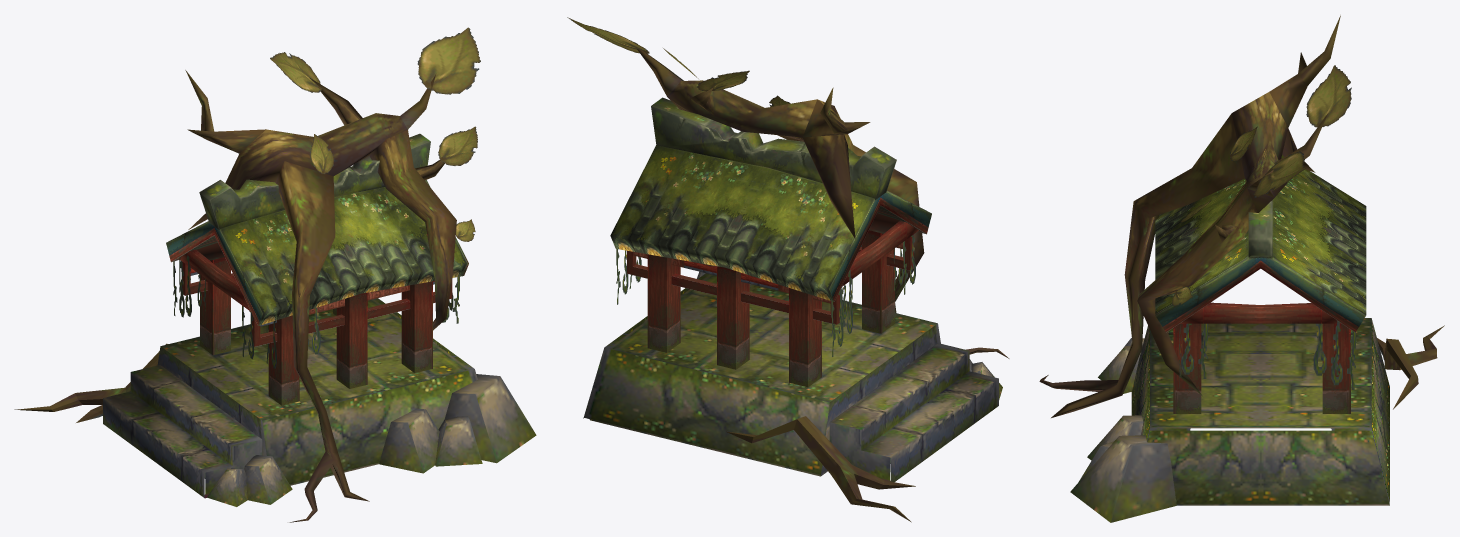
The model's file is house-01.FBX.
3 views of the same model, side by side, from view 1: azimuth 30°, elevation 25°; view 2: azimuth 150°, elevation 25°; view 3: azimuth 270°, elevation 25° (orthographic). The views are drawn at different scales.
Visible parts, largest first — view 1: house-01; view 2: house-01; view 3: house-01.
Part boxes in pixels (box(x1,y1,x2,y2)): house-01: box(14, 27, 536, 522); house-01: box(567, 17, 1009, 522); house-01: box(1039, 15, 1444, 522).
Size of the model in its own units: 718 by 569 by 587.
